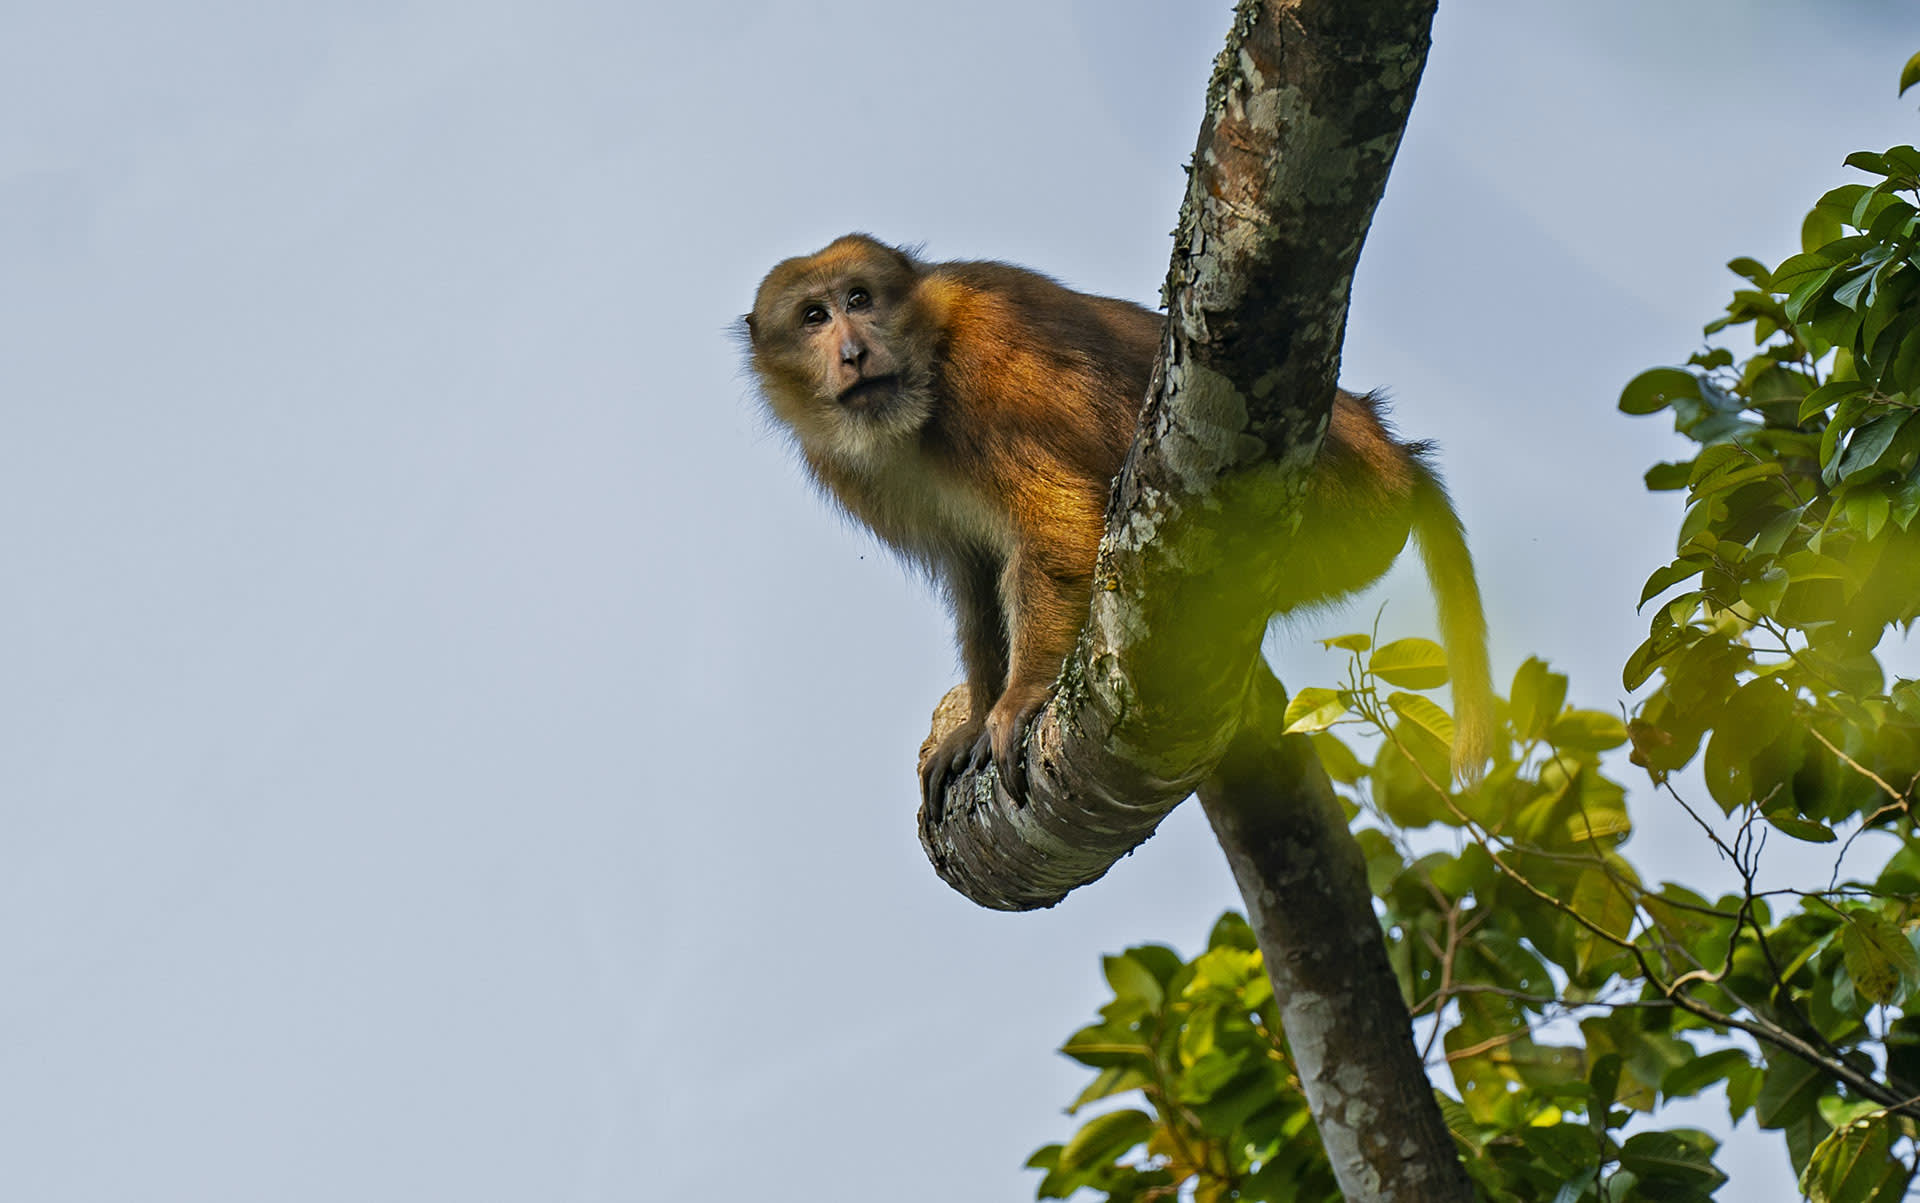monkey: (740, 226, 1515, 820)
